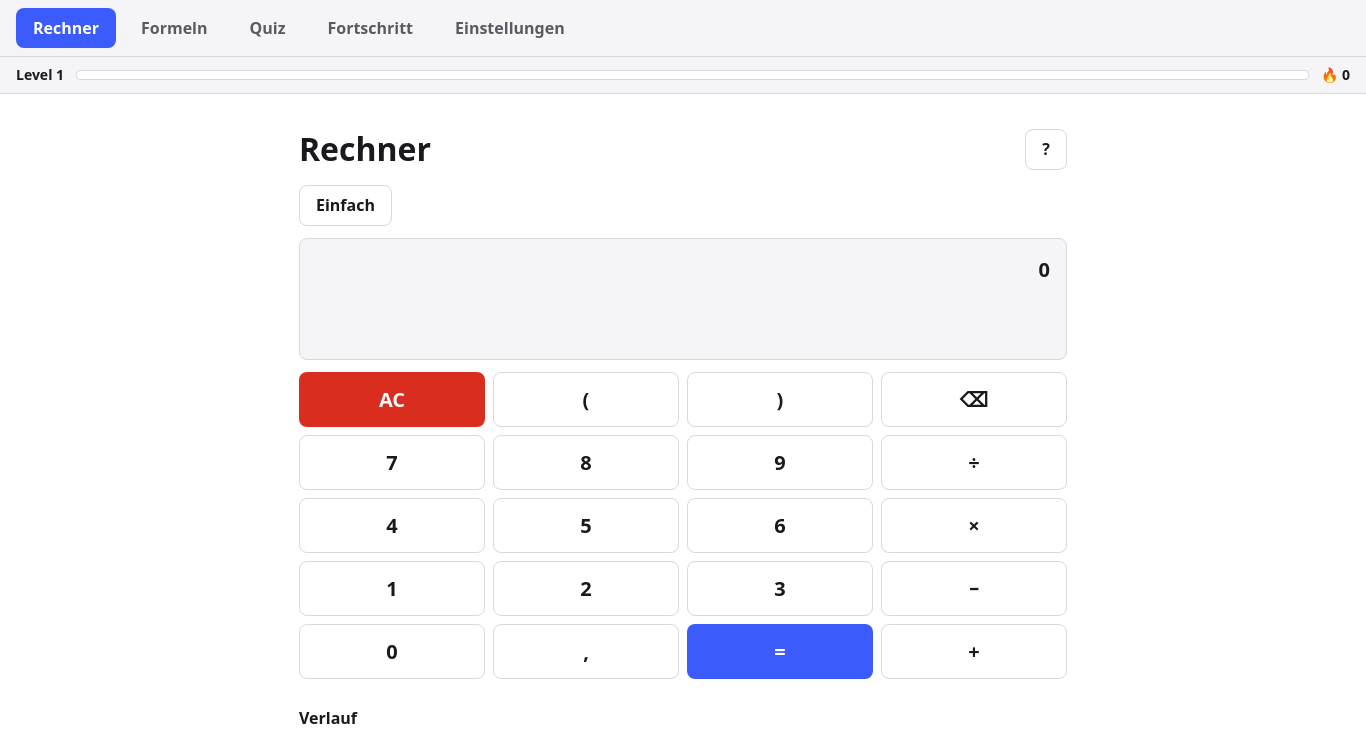
Test: AppShell › zeigt beim Wechsel zu Quiz die Quiz-Ansicht
This screenshot has width=1366, height=753.
Click the button "Quiz".
click(267, 28)  # box [232, 8, 302, 48]
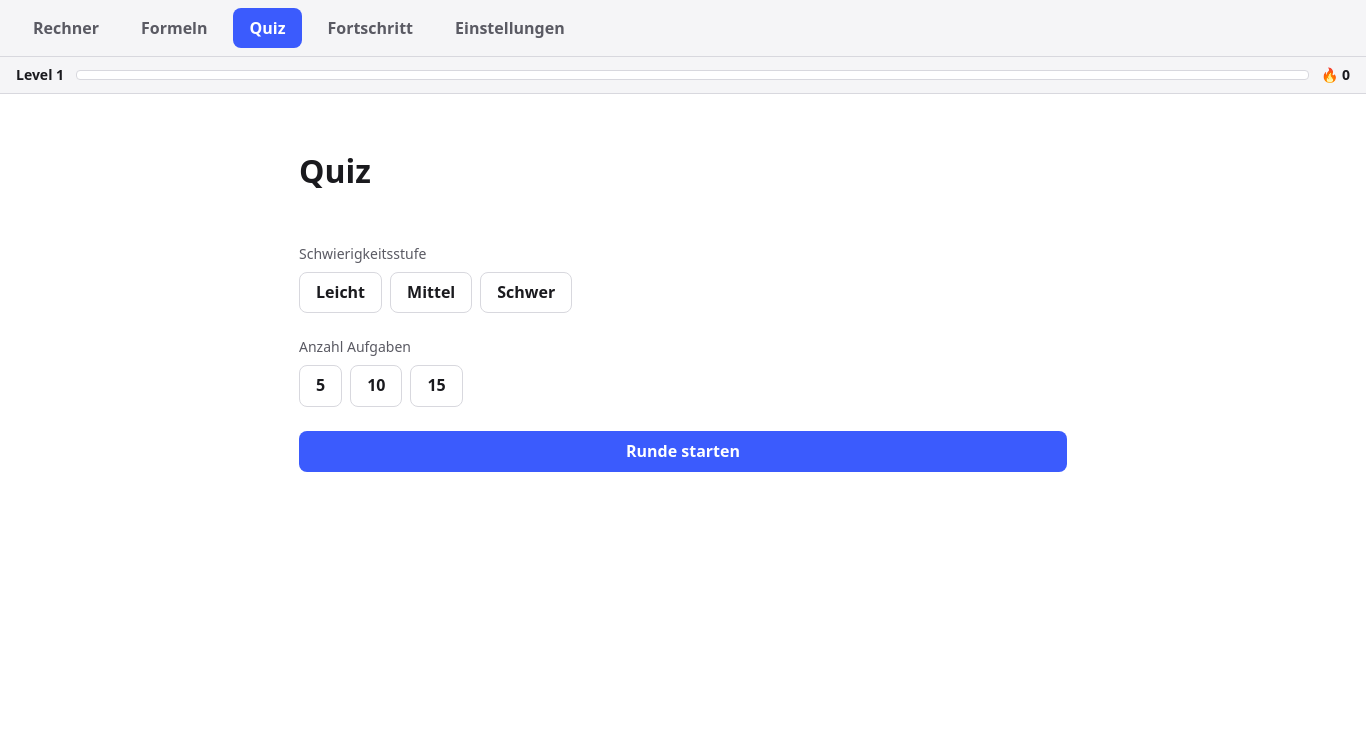
Result: the heading "Quiz" is shown at [299, 149, 371, 192]
